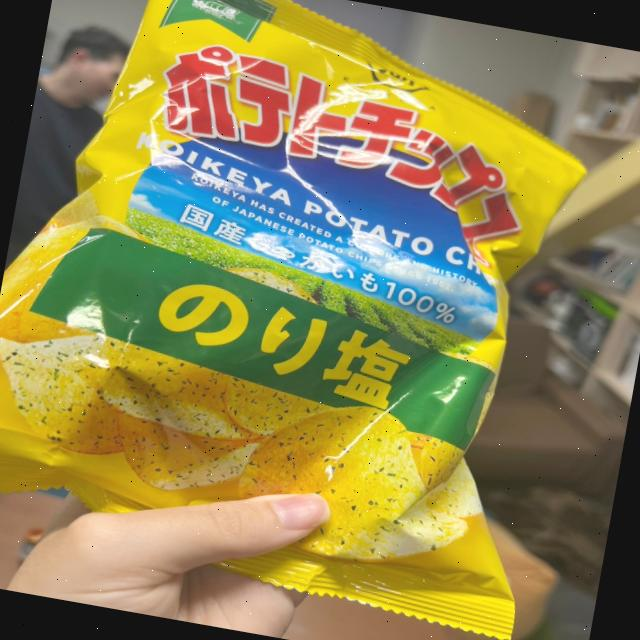chips-nori: (0, 0, 593, 575)
